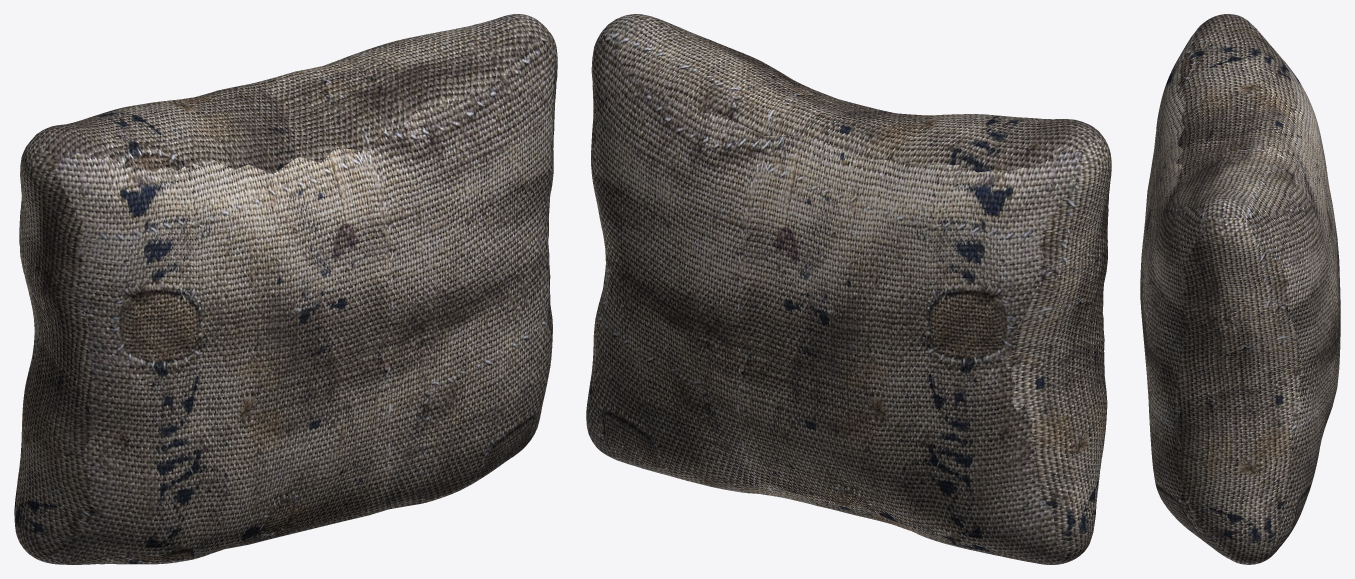
Rendered from almohadon.obj.
3 renders of one model, left to right at view 1: azimuth 30°, elevation 25°; view 2: azimuth 150°, elevation 25°; view 3: azimuth 270°, elevation 25°, orthographic. The views are drawn at different scales.
Parts seen in each view (by area): view 1: Cushion; view 2: Cushion; view 3: Cushion.
Part boxes in pixels (left/top/right/bottom): Cushion: left=14, top=14, right=557, bottom=564; Cushion: left=586, top=14, right=1111, bottom=564; Cushion: left=1140, top=14, right=1340, bottom=564.
Size of the model in its own units: 1.29 by 1.06 by 0.5162.
